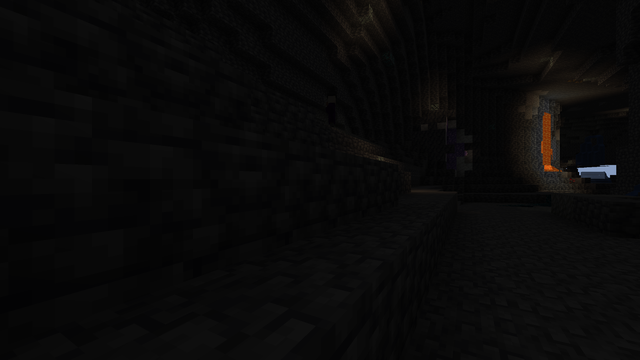sorcieres: (325, 93, 337, 126)
